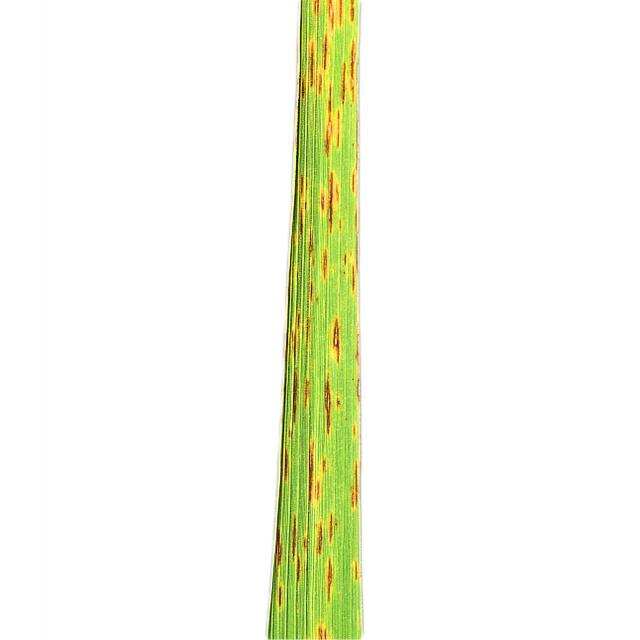Narrow brown: (228, 0, 498, 640)
